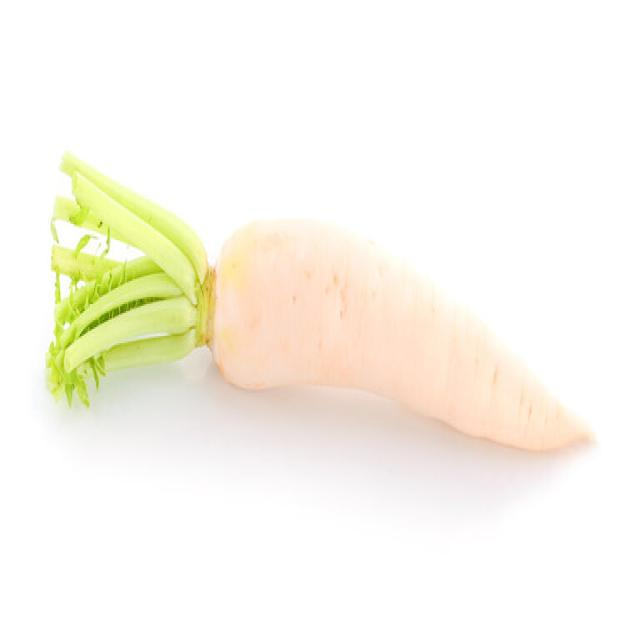Coriander Leaves: (44, 147, 212, 409)
Radish: (45, 148, 597, 455)
